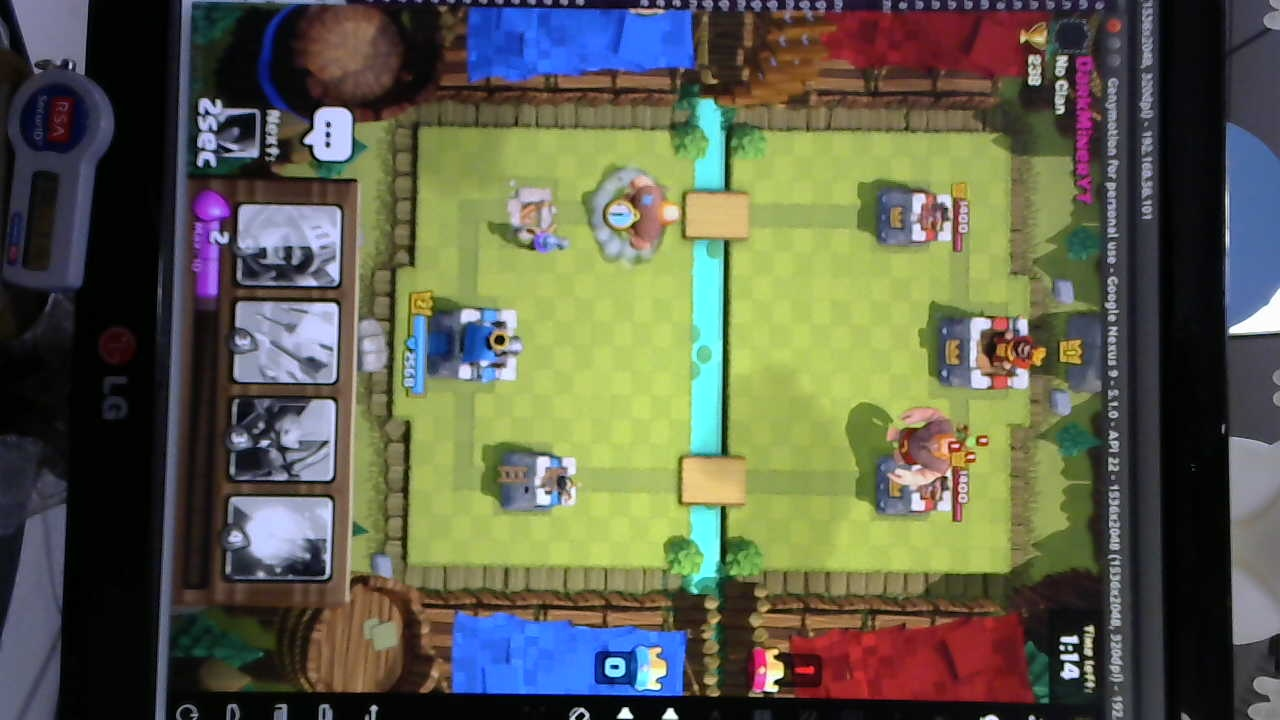arena: (500, 453, 583, 510)
darena: (500, 183, 562, 257)
earena: (869, 185, 956, 249), (870, 454, 951, 519)
eking: (930, 314, 1048, 392)
giant: (886, 400, 958, 491), (617, 175, 677, 259)
king: (428, 307, 517, 384)
musketeer: (515, 225, 574, 255)
speargoblin: (948, 419, 987, 471)
